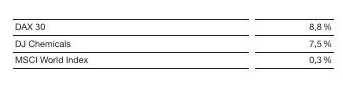table: (0, 0, 343, 85)
